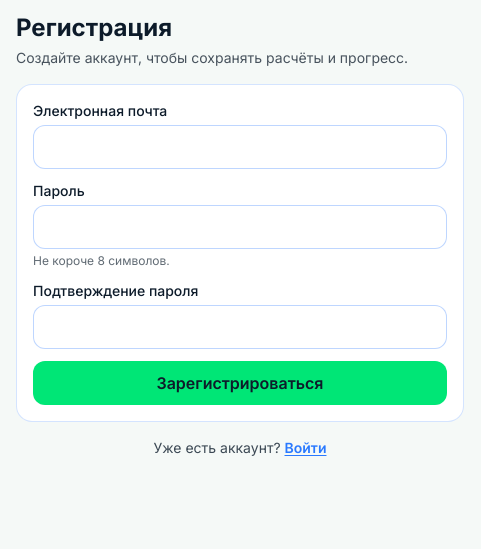
it: Register › shows error when passwords do not match
Type "a@b.com" into the field labelled "Электронная почта".
click(240, 147); type("a@b.com")  # box [33,125,447,169]
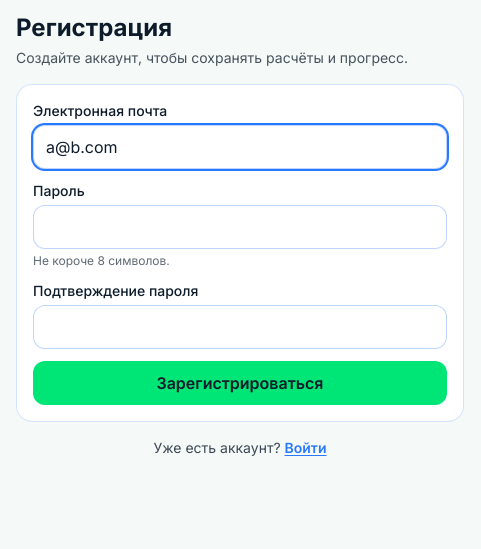
Type "password12" into the password field labelled "Пароль".
click(240, 227); type("password12")  # box [33,205,447,249]
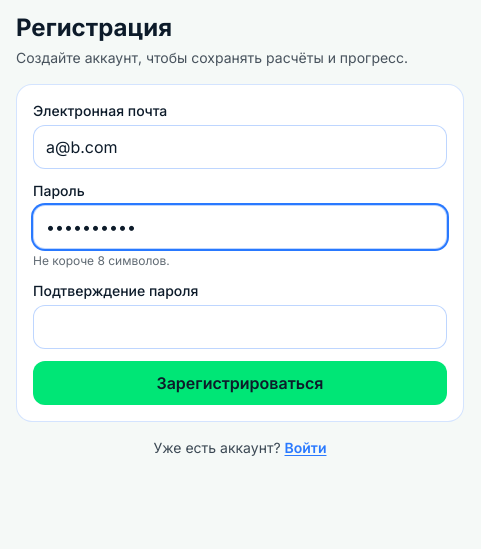
Type "password99" into the password field labelled "Подтверждение пароля".
click(240, 327); type("password99")  # box [33,305,447,349]
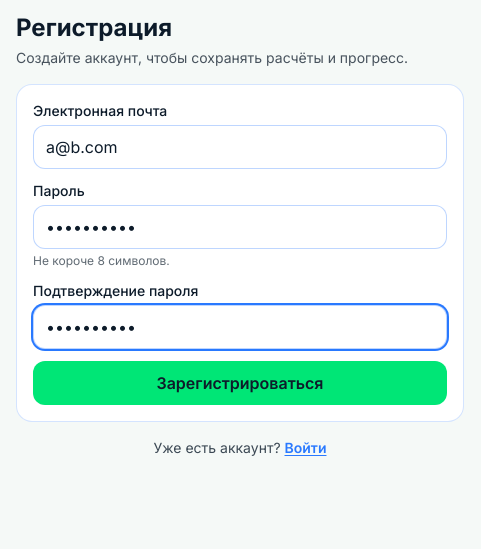
Click the button "Зарегистрироваться".
click(240, 383)  # box [33,361,447,405]
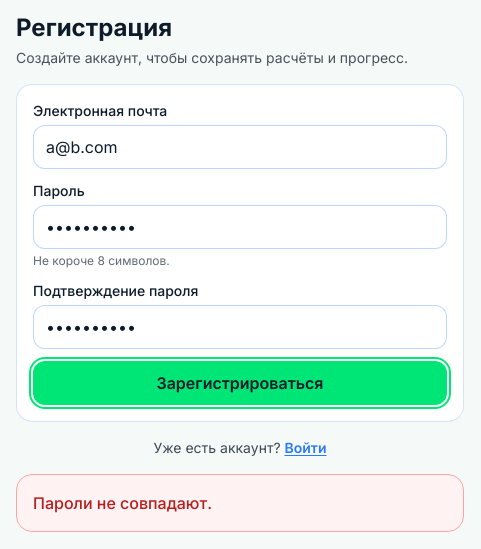
Expected: the message shows "Пароли не совпадают", [33,493,212,513]
